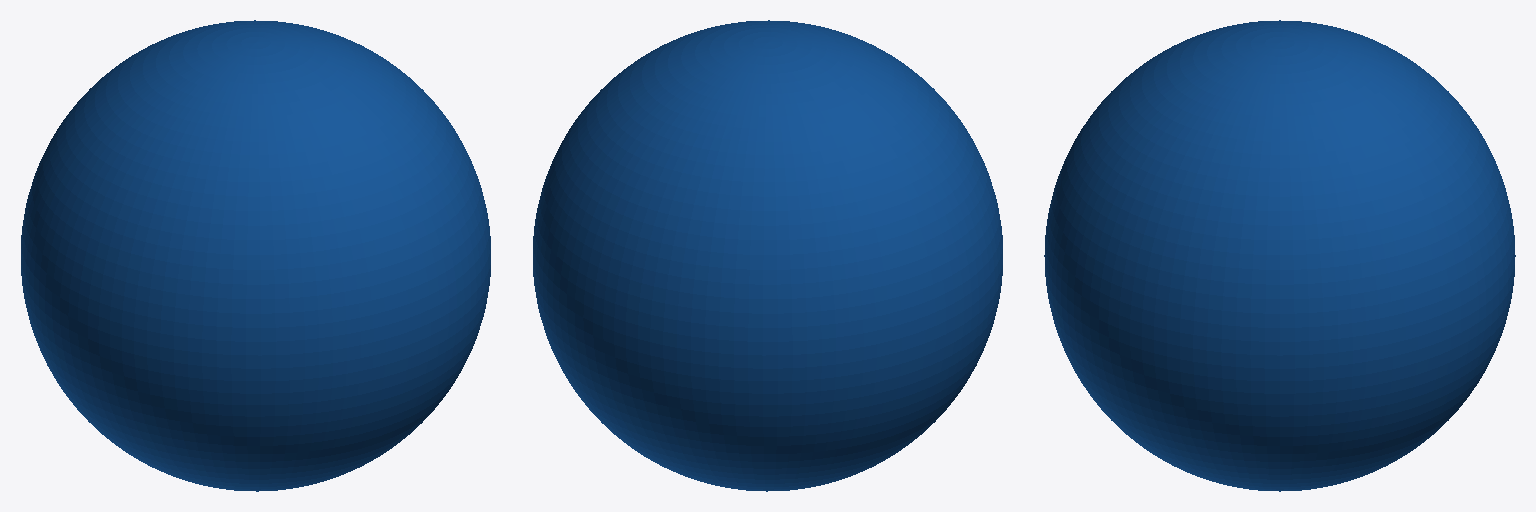
The model's file is sky.obj.
The picture shows the model from 3 angles: view 1: azimuth 30°, elevation 25°; view 2: azimuth 150°, elevation 25°; view 3: azimuth 270°, elevation 25°; orthographic projection.
Visible parts, largest first — view 1: Mesh1 Model; view 2: Mesh1 Model; view 3: Mesh1 Model.
Boxes of the visible parts, x1,y1,x2,y2 form: Mesh1 Model: [21, 20, 490, 491]; Mesh1 Model: [533, 20, 1002, 491]; Mesh1 Model: [1044, 20, 1515, 491].
Bounding box in the file's own units: 0.4672 × 0.4672 × 0.4672.